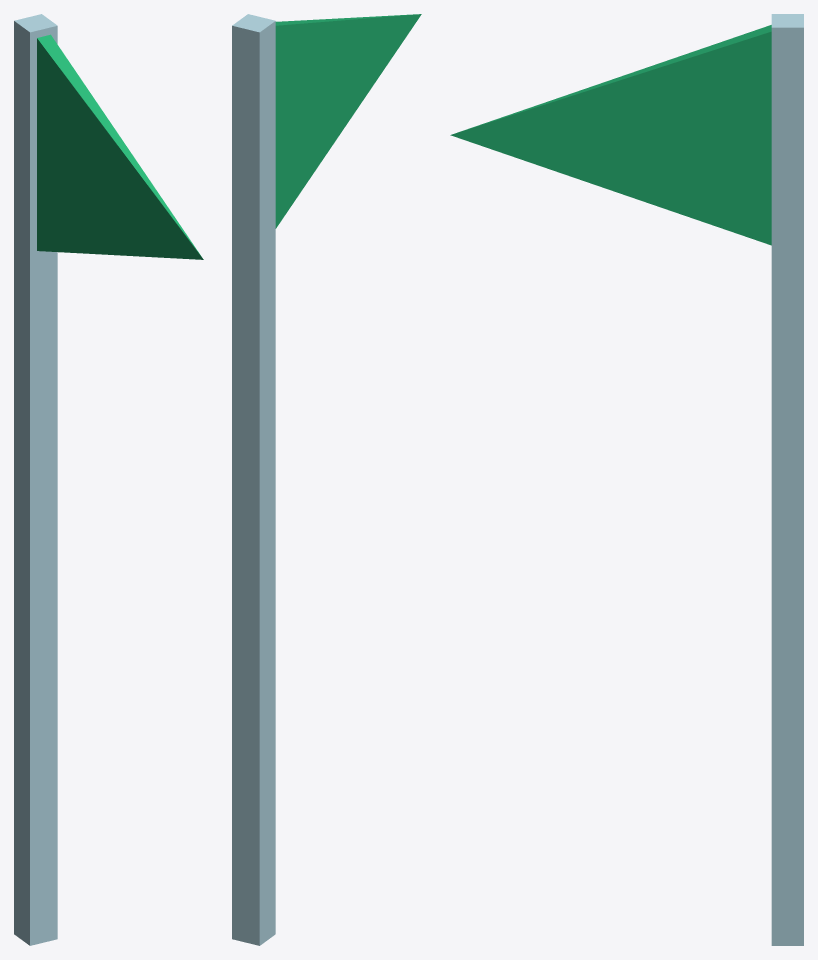
The model's file is flag_green.obj.
The picture shows the model from 3 angles, left to right: view 1: azimuth 30°, elevation 25°; view 2: azimuth 150°, elevation 25°; view 3: azimuth 270°, elevation 25°; orthographic projection.
Parts seen in each view (by area): view 1: flag_green; view 2: flag_green; view 3: flag_green.
Part boxes in pixels (left/top/right/bottom): flag_green: left=14, top=14, right=203, bottom=945; flag_green: left=232, top=14, right=421, bottom=945; flag_green: left=450, top=14, right=803, bottom=945.
Size of the model in its own units: 0.0333 by 1.05 by 0.3666.
